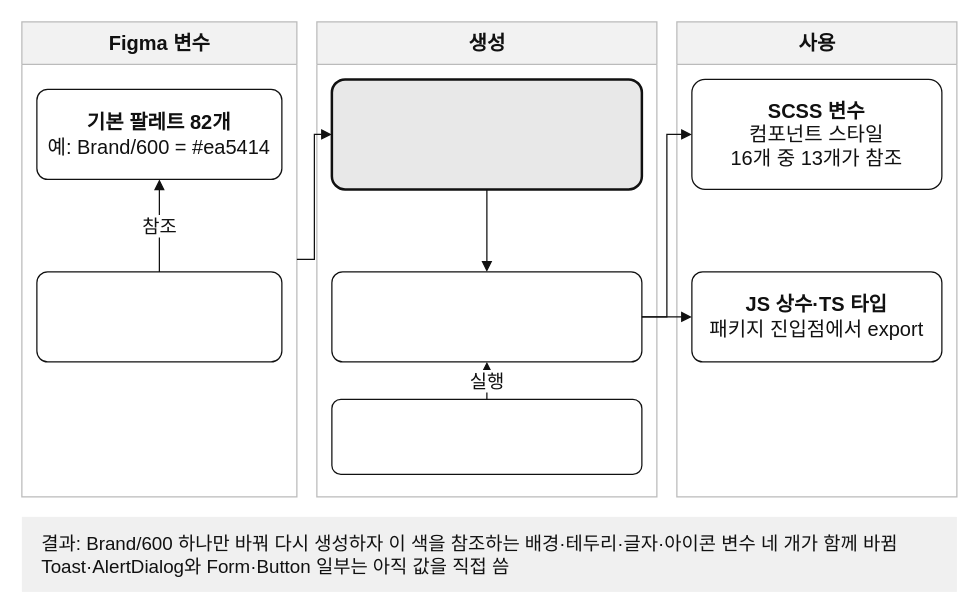
Image size: 979x614. Some labels were removed from this diagram. Here are the shapes that lost their labels. From the top down, the centre of each, then its label:
At (486,134): "토큰 JSON 참조를 살려 내보낸 원본 값을 고치는 곳은 여기 하나".
At (159,316): "용도 토큰 133개 배경·테두리·글자·아이콘".
At (486,316): "Style Dictionary 참조를 실제 값으로 풀어 생성".
At (486,436): "CI : Storybook 빌드 전에 매번 생성 생성물은 커밋하지 않음".
